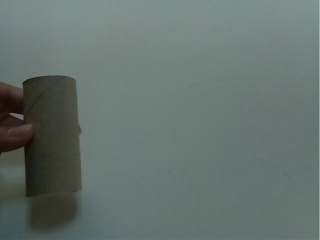rollo papel: (20, 75, 86, 200)
